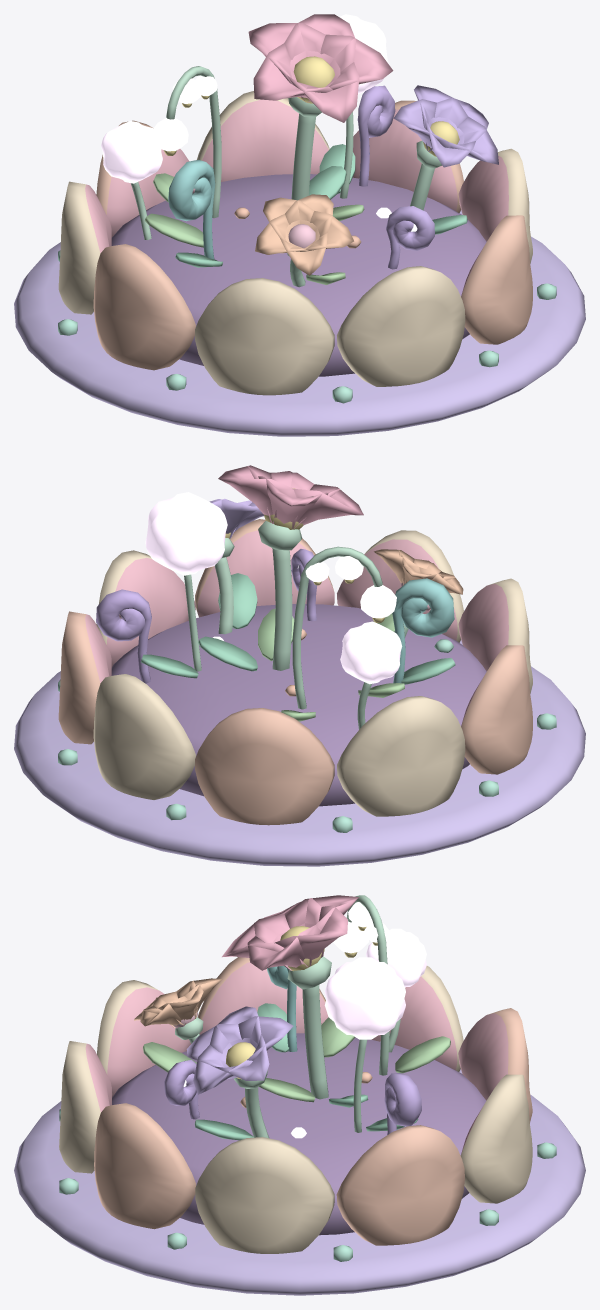
File: flowerbed.fbx
The picture shows the model from 3 angles, top to bottom: view 1: azimuth 30°, elevation 25°; view 2: azimuth 150°, elevation 25°; view 3: azimuth 270°, elevation 25°; orthographic projection.
Visible parts, largest first — view 1: Flowerbed_PetalRim, Flowerbed_Base, Flowerbed_Soil, Flowerbed_GlowBloom_A, Flowerbed_GlowBloom_B, Flowerbed_GlowBloom_C, Flowerbed_Leaves, Flowerbed_DropBell, Flowerbed_PuffBall_B, Flowerbed_SpiralBud_A, Flowerbed_SpiralBud_C, Flowerbed_SpiralBud_B (+2 smaller); view 2: Flowerbed_PetalRim, Flowerbed_Base, Flowerbed_Soil, Flowerbed_GlowBloom_A, Flowerbed_PuffBall_A, Flowerbed_Leaves, Flowerbed_DropBell, Flowerbed_PuffBall_B, Flowerbed_SpiralBud_A, Flowerbed_SpiralBud_C, Flowerbed_GlowBloom_B, Flowerbed_GlowBloom_C (+2 smaller); view 3: Flowerbed_PetalRim, Flowerbed_Base, Flowerbed_Soil, Flowerbed_GlowBloom_A, Flowerbed_GlowBloom_B, Flowerbed_PuffBall_A, Flowerbed_Leaves, Flowerbed_GlowBloom_C, Flowerbed_DropBell, Flowerbed_PuffBall_B, Flowerbed_SpiralBud_C, Flowerbed_RimBeads (+2 smaller).
Part boxes in pixels (x1,y1,x2,y2): Flowerbed_PetalRim: [58, 91, 532, 395]; Flowerbed_Base: [14, 210, 585, 436]; Flowerbed_Soil: [111, 174, 486, 376]; Flowerbed_GlowBloom_A: [248, 14, 393, 200]; Flowerbed_GlowBloom_B: [393, 85, 498, 210]; Flowerbed_GlowBloom_C: [255, 194, 353, 287]; Flowerbed_Leaves: [144, 144, 467, 284]; Flowerbed_DropBell: [152, 66, 221, 218]; Flowerbed_PuffBall_B: [101, 121, 162, 239]; Flowerbed_SpiralBud_A: [168, 159, 215, 259]; Flowerbed_SpiralBud_C: [357, 85, 395, 186]; Flowerbed_SpiralBud_B: [386, 206, 434, 269]; Flowerbed_PetalRim: [58, 519, 532, 825]; Flowerbed_Base: [14, 640, 585, 866]; Flowerbed_Soil: [111, 604, 486, 806]; Flowerbed_GlowBloom_A: [218, 465, 363, 670]; Flowerbed_PuffBall_A: [145, 492, 227, 671]; Flowerbed_Leaves: [141, 573, 455, 721]; Flowerbed_DropBell: [292, 546, 396, 709]; Flowerbed_PuffBall_B: [340, 621, 402, 729]; Flowerbed_SpiralBud_A: [392, 578, 454, 683]; Flowerbed_SpiralBud_C: [96, 589, 151, 683]; Flowerbed_GlowBloom_B: [209, 498, 263, 634]; Flowerbed_GlowBloom_C: [374, 549, 463, 637]; Flowerbed_PetalRim: [59, 957, 532, 1253]; Flowerbed_Base: [14, 1069, 585, 1295]; Flowerbed_Soil: [112, 1033, 486, 1235]; Flowerbed_GlowBloom_A: [222, 895, 358, 1099]; Flowerbed_GlowBloom_B: [186, 1006, 293, 1138]; Flowerbed_PuffBall_A: [324, 957, 405, 1132]; Flowerbed_Leaves: [143, 1003, 450, 1140]; Flowerbed_GlowBloom_C: [134, 978, 222, 1043]; Flowerbed_DropBell: [333, 895, 389, 1075]; Flowerbed_PuffBall_B: [366, 928, 426, 1052]; Flowerbed_SpiralBud_C: [384, 1073, 421, 1134]; Flowerbed_RimBeads: [59, 1109, 556, 1261].
Size of the model in its own units: 1.66 by 0.9094 by 1.66.
